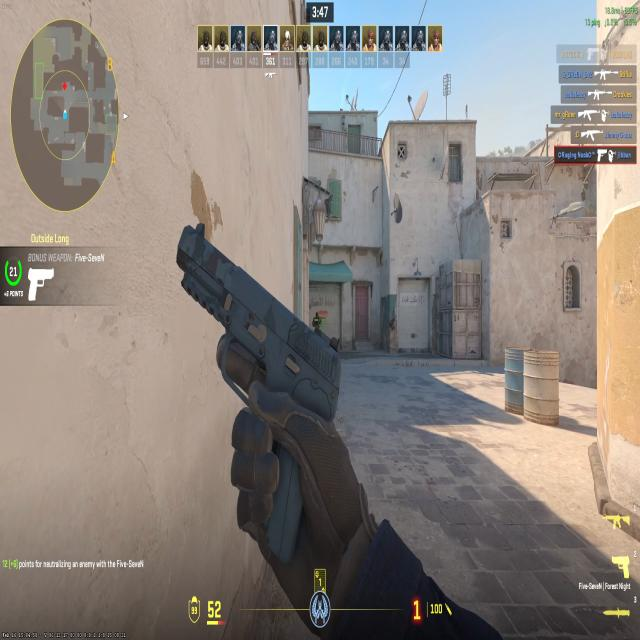player: (308, 309, 322, 333)
